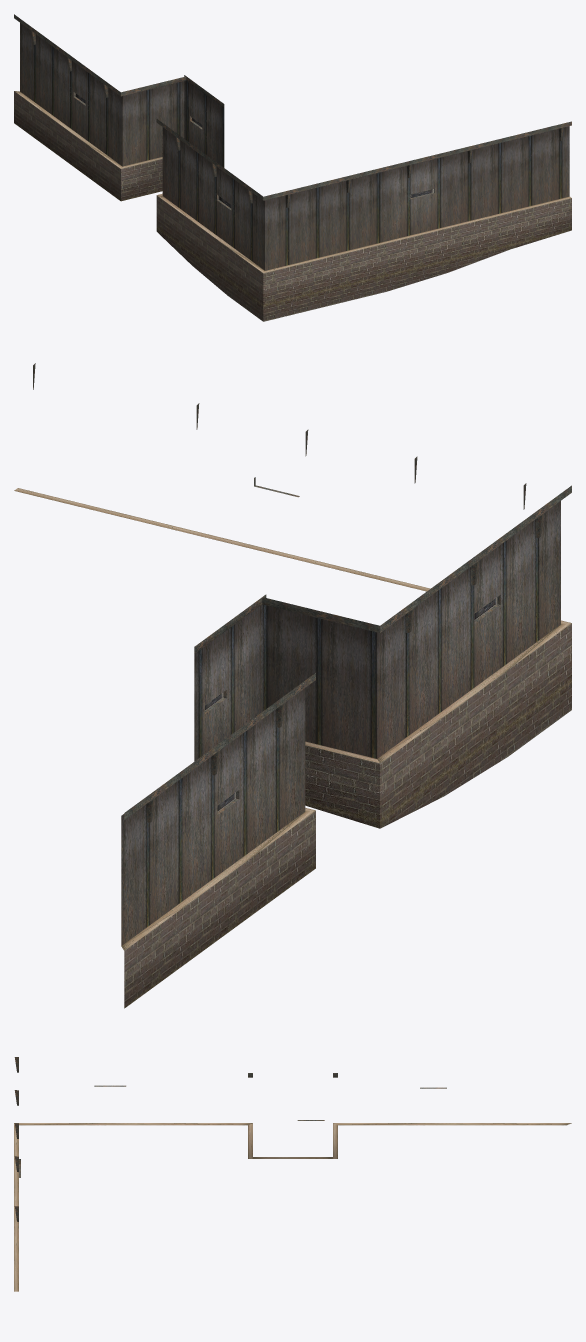
The model's file is M11Z2_SCUDHouse01_B.glb.
3 renders of one model, top to bottom at view 1: azimuth 30°, elevation 25°; view 2: azimuth 150°, elevation 25°; view 3: azimuth 270°, elevation 25°, orthographic. The views are drawn at different scales.
Parts seen in each view (by area): view 1: M11Z2_SCUDHOUSE01_B; view 2: M11Z2_SCUDHOUSE01_B; view 3: M11Z2_SCUDHOUSE01_B.
Boxes of the visible parts, x1,y1,x2,y2 form: M11Z2_SCUDHOUSE01_B: (14,14,571,321); M11Z2_SCUDHOUSE01_B: (14,363,571,1008); M11Z2_SCUDHOUSE01_B: (14,1057,571,1291).
Size of the model in its own units: 40 by 15.51 by 56.
5 materials, 5 textured.
